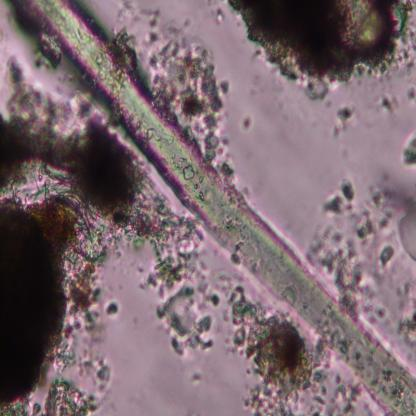Background material: (0, 56, 157, 238), (0, 189, 119, 414), (227, 0, 416, 102), (229, 282, 327, 415), (139, 214, 224, 358), (147, 23, 229, 153), (309, 219, 388, 327), (359, 179, 416, 269), (394, 274, 416, 344), (116, 2, 163, 34), (330, 376, 366, 412), (323, 180, 356, 217), (329, 102, 354, 139), (401, 125, 416, 168), (380, 92, 398, 115), (240, 112, 254, 135), (191, 367, 206, 386), (212, 8, 224, 28)
Microfibre: (23, 0, 416, 415)
